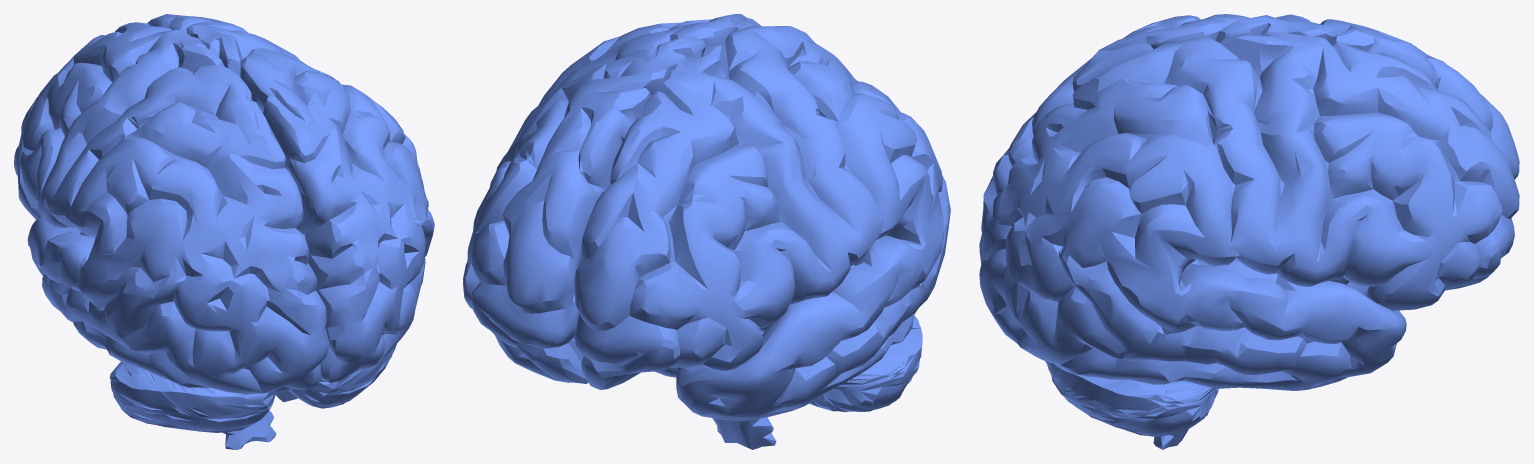
File: Brain_Model.dae
3 views of the same model, side by side, from view 1: azimuth 30°, elevation 25°; view 2: azimuth 150°, elevation 25°; view 3: azimuth 270°, elevation 25° (orthographic). The views are drawn at different scales.
Parts seen in each view (by area): view 1: Default; view 2: Default; view 3: Default.
Part boxes in pixels (bbox=[...]): Default: bbox=[14, 14, 434, 449]; Default: bbox=[463, 14, 950, 449]; Default: bbox=[979, 14, 1519, 449].
Size of the model in its own units: 318 by 335 by 395.
